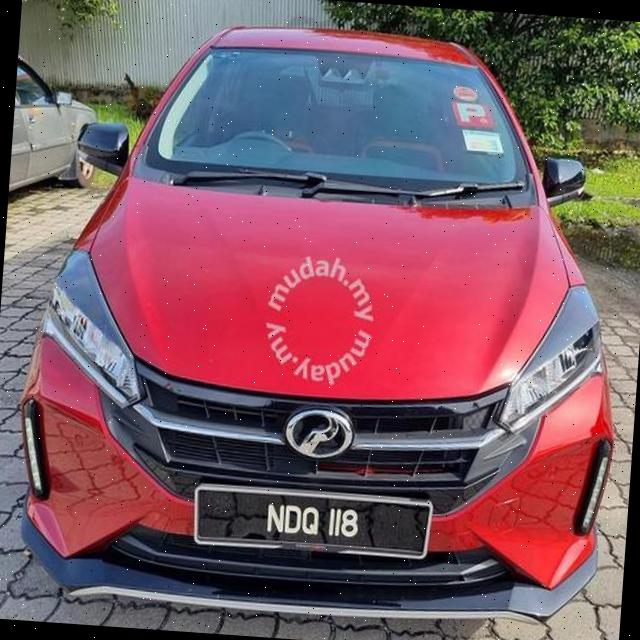License_Plate: (187, 478, 440, 569)
car: (1, 1, 640, 640)
